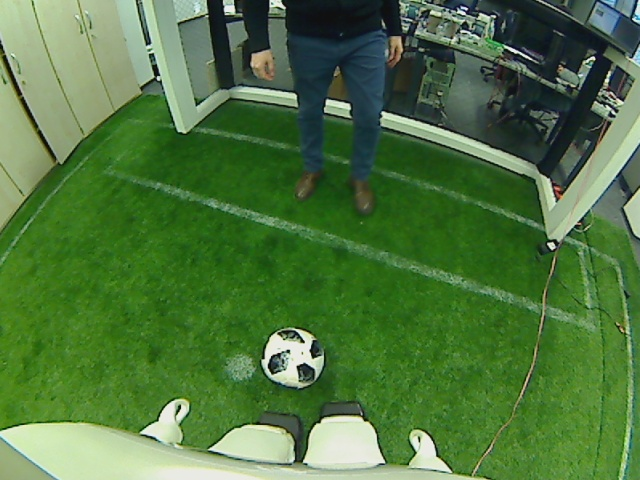ball: (258, 326, 325, 391)
